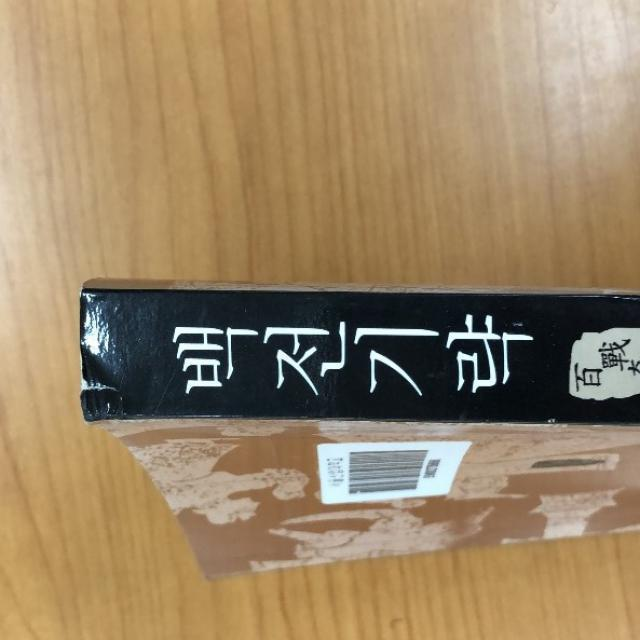Ripped: (71, 325, 142, 429)
